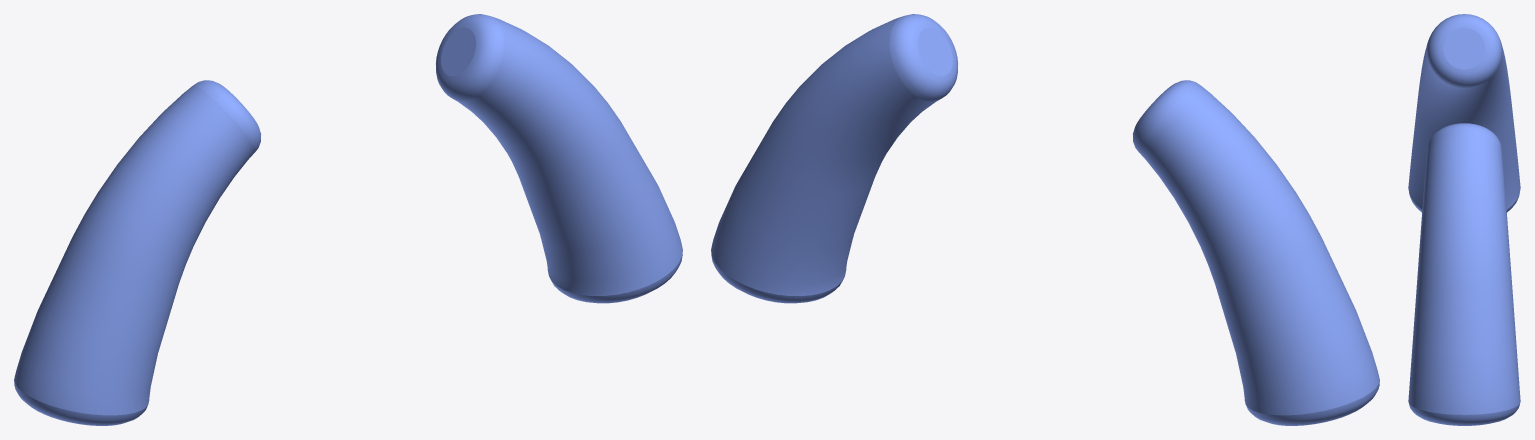
The model's file is Hands5.glb.
The picture shows the model from 3 angles, left to right: view 1: azimuth 30°, elevation 25°; view 2: azimuth 150°, elevation 25°; view 3: azimuth 270°, elevation 25°; orthographic projection. The views are drawn at different scales.
Parts seen in each view (by area): view 1: Hands5; view 2: Hands5; view 3: Hands5.
Boxes of the visible parts, x1,y1,x2,y2 form: Hands5: [14, 14, 682, 425]; Hands5: [711, 14, 1379, 425]; Hands5: [1408, 14, 1520, 425].
Bounding box in the file's own units: 329 × 145 × 60.
